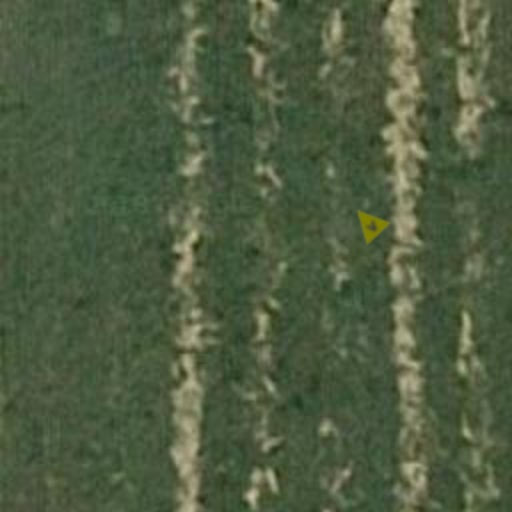triangle: (344, 198, 392, 246)
